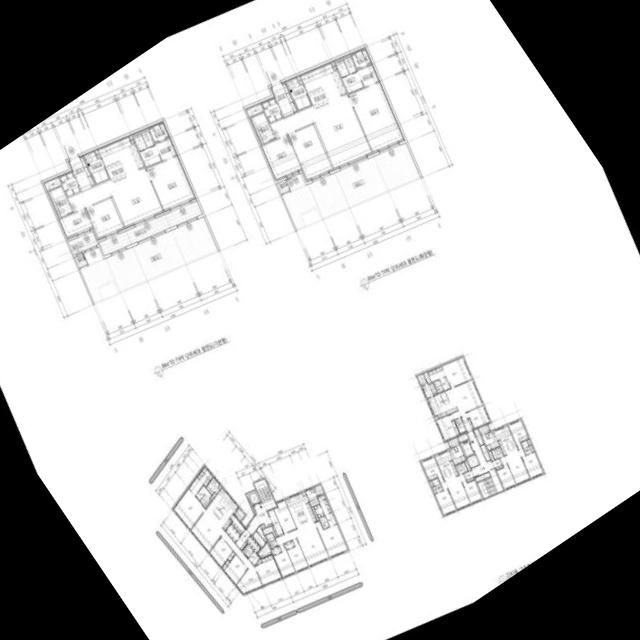background: (0, 0, 640, 640)
space_balconi: (99, 201, 203, 255), (68, 231, 98, 255), (235, 508, 245, 521), (314, 484, 324, 496)
space_bedroom: (349, 82, 405, 153), (147, 156, 196, 211), (288, 124, 333, 182), (262, 135, 302, 181), (86, 198, 124, 240), (173, 488, 205, 530), (315, 521, 348, 557), (59, 209, 93, 239), (442, 357, 472, 387), (255, 554, 282, 586), (222, 554, 248, 585), (210, 537, 236, 567), (287, 538, 309, 572), (274, 544, 296, 577), (274, 500, 296, 533), (422, 457, 445, 483), (437, 414, 460, 440), (466, 405, 490, 428), (509, 420, 528, 449), (522, 452, 543, 478), (435, 489, 456, 514), (497, 464, 516, 489), (462, 480, 482, 503), (284, 540, 295, 549), (271, 546, 282, 555)
space_dressroom: (358, 64, 380, 87), (156, 138, 178, 160), (351, 47, 372, 69), (149, 121, 170, 143), (197, 466, 214, 487), (428, 366, 446, 382), (318, 495, 332, 514), (314, 504, 324, 517)
space_elevator: (461, 440, 475, 457), (247, 491, 261, 506)
space_elevator_hall: (247, 469, 277, 535), (467, 431, 497, 477)
space_front: (68, 155, 95, 192), (271, 82, 297, 116), (261, 97, 283, 123), (59, 171, 81, 196), (268, 509, 284, 536), (236, 529, 251, 550), (247, 535, 261, 554), (226, 524, 240, 542), (493, 458, 504, 470), (464, 419, 474, 432), (464, 471, 474, 482)
space_kitchen: (98, 136, 144, 182), (300, 62, 346, 108), (207, 487, 239, 530), (285, 492, 317, 529), (435, 445, 467, 481), (482, 426, 518, 455), (428, 390, 458, 418)
space_living_room: (270, 94, 372, 170), (191, 509, 263, 594), (68, 168, 163, 228), (276, 522, 329, 566), (450, 380, 483, 421), (441, 474, 471, 509), (500, 449, 530, 484)
space_multipurpose_space: (286, 77, 312, 110), (84, 151, 109, 184)
space_other: (231, 514, 245, 535), (306, 487, 319, 507), (43, 177, 61, 191), (246, 103, 264, 117), (206, 477, 220, 494), (423, 382, 437, 398), (253, 531, 266, 547), (480, 444, 491, 461), (467, 455, 480, 468), (259, 542, 271, 556), (475, 472, 491, 482), (257, 526, 267, 542), (474, 429, 484, 445), (263, 526, 276, 537), (458, 434, 469, 442), (313, 507, 319, 520), (425, 372, 431, 383), (489, 451, 495, 461), (465, 461, 471, 471), (210, 492, 217, 500), (297, 75, 303, 84), (129, 135, 135, 143), (331, 61, 337, 69), (95, 149, 100, 158), (256, 559, 262, 565), (252, 507, 256, 515), (430, 481, 434, 487), (302, 491, 306, 496), (528, 439, 531, 445), (261, 524, 265, 528), (486, 434, 490, 438), (435, 416, 439, 420), (455, 447, 458, 452), (219, 485, 222, 489)
space_outdoor_room: (75, 254, 88, 268), (277, 180, 290, 194), (448, 438, 460, 448), (417, 373, 427, 385), (479, 425, 490, 435)
space_staircase: (478, 474, 504, 498), (259, 478, 273, 501)
space_toilet: (49, 186, 73, 218), (252, 113, 275, 144), (342, 71, 364, 93), (140, 145, 161, 167), (196, 485, 212, 508), (433, 377, 450, 393), (141, 130, 155, 148), (189, 477, 203, 495), (134, 133, 147, 151), (344, 56, 357, 74), (336, 60, 349, 77), (521, 440, 534, 455), (266, 533, 278, 548), (455, 417, 466, 433), (455, 462, 468, 475), (432, 478, 443, 493), (491, 447, 504, 459), (249, 551, 260, 565), (325, 513, 336, 526), (243, 547, 251, 558), (246, 544, 254, 554), (321, 521, 330, 529), (319, 516, 327, 523)
